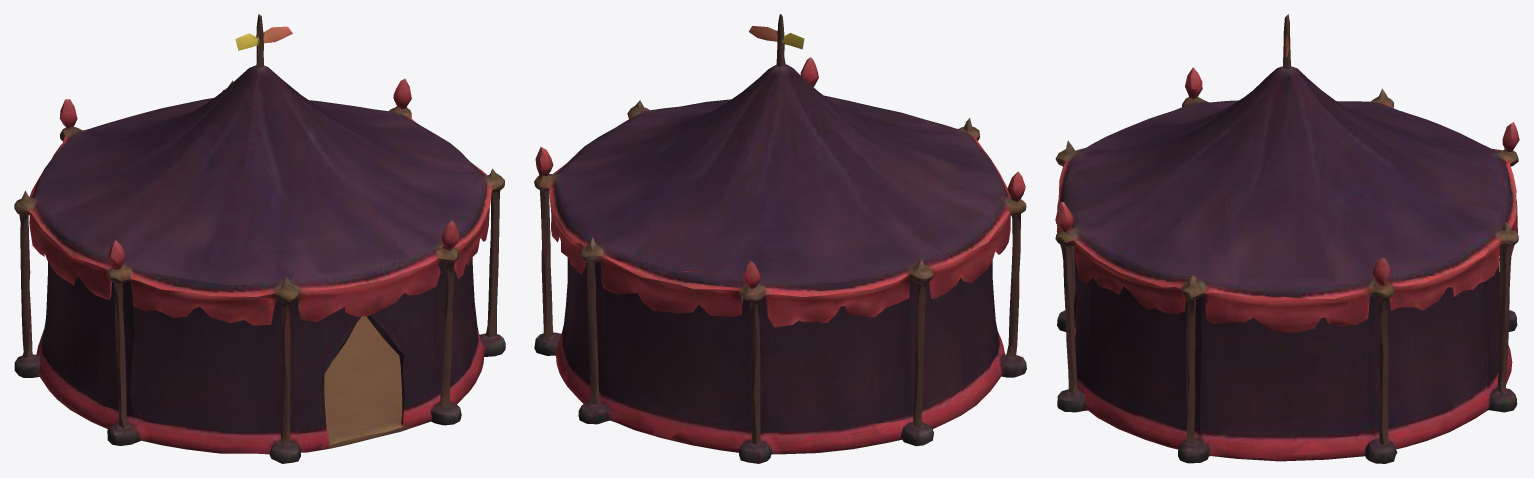
The model's file is lg-enemy-tent-large.glb.
The picture shows the model from 3 angles, left to right: view 1: azimuth 30°, elevation 25°; view 2: azimuth 150°, elevation 25°; view 3: azimuth 270°, elevation 25°; orthographic projection.
Visible parts, largest first — view 1: geometry_0; view 2: geometry_0; view 3: geometry_0.
Boxes of the visible parts, x1,y1,x2,y2 form: geometry_0: [14, 14, 505, 463]; geometry_0: [534, 14, 1026, 463]; geometry_0: [1055, 14, 1519, 463].
Bounding box in the file's own units: 1 × 0.8367 × 0.9971.
1 material, 1 textured.
